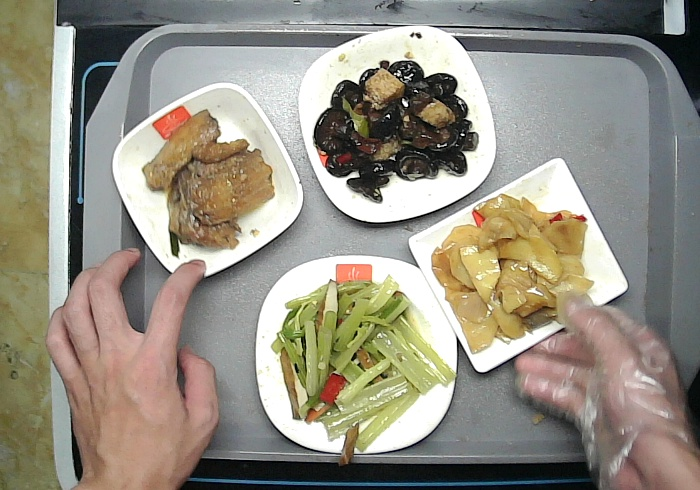SHKJ-Bai_Se_Cai_Die: (296, 24, 498, 222)
SHKJ-Bai_Se_Si_Fang_Cai_Die: (255, 254, 460, 452)
SHKJ-Bai_Se_Xiao_Fang_Die: (111, 82, 305, 281)
SHKJ-Si_Fang_Min: (406, 157, 629, 375)
